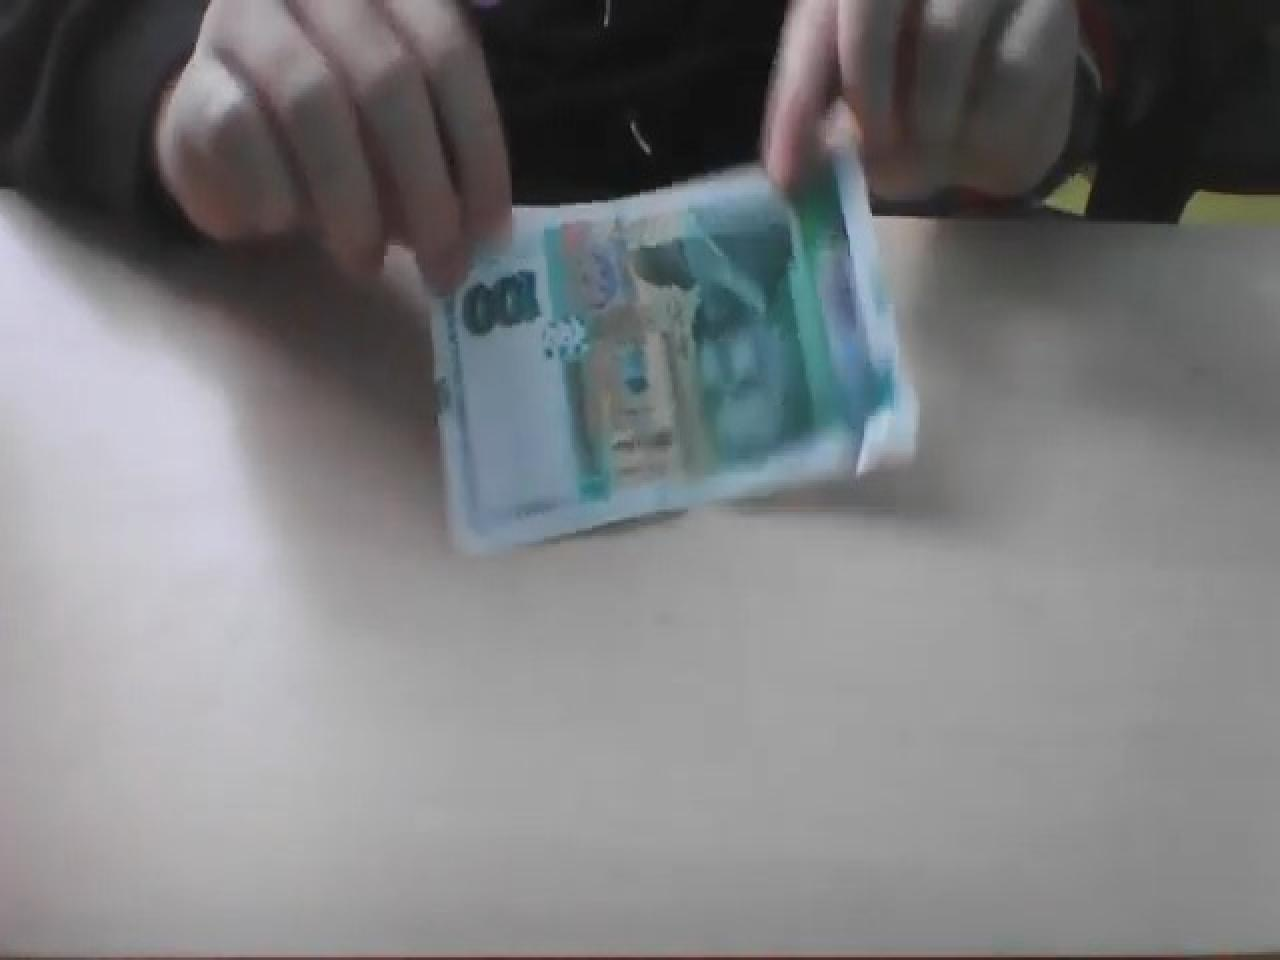100leva: (428, 152, 916, 560)
